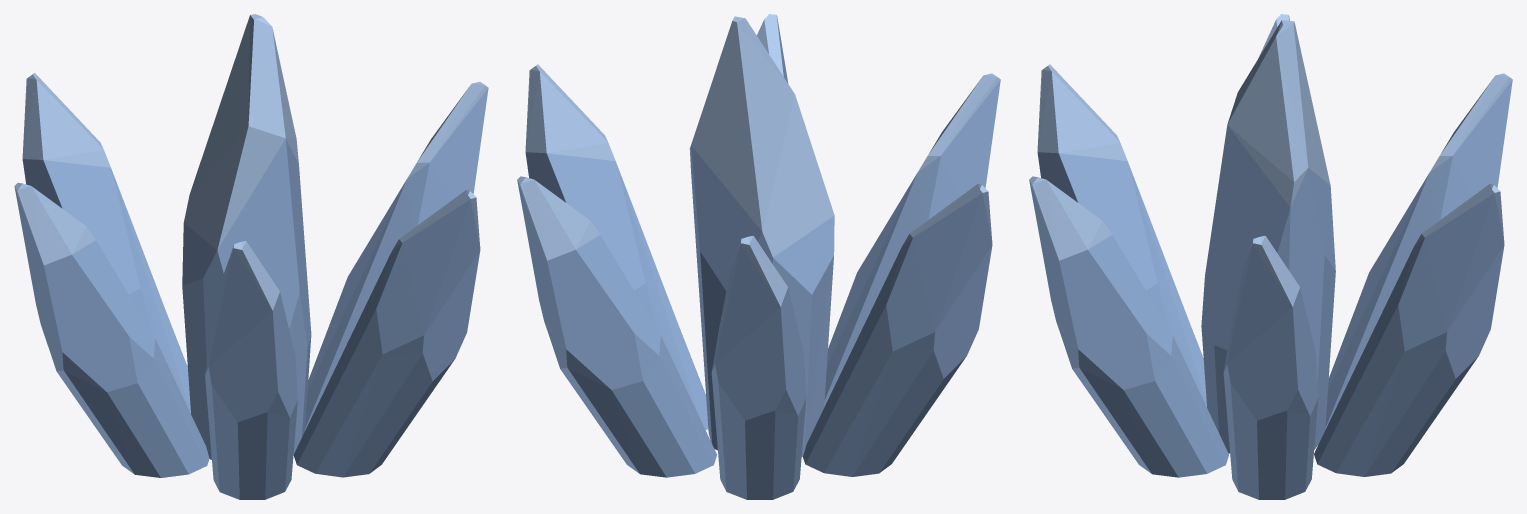
The model's file is crystal_17.fbx.
3 views of the same model, side by side, from view 1: azimuth 30°, elevation 25°; view 2: azimuth 150°, elevation 25°; view 3: azimuth 270°, elevation 25° (orthographic). The views are drawn at different scales.
Parts seen in each view (by area): view 1: crystal_17; view 2: crystal_17; view 3: crystal_17.
Part boxes in pixels (bbox=[...]): crystal_17: bbox=[14, 14, 488, 499]; crystal_17: bbox=[517, 14, 1000, 499]; crystal_17: bbox=[1029, 14, 1512, 499].
Size of the model in its own units: 98.22 by 84.64 by 87.89.
